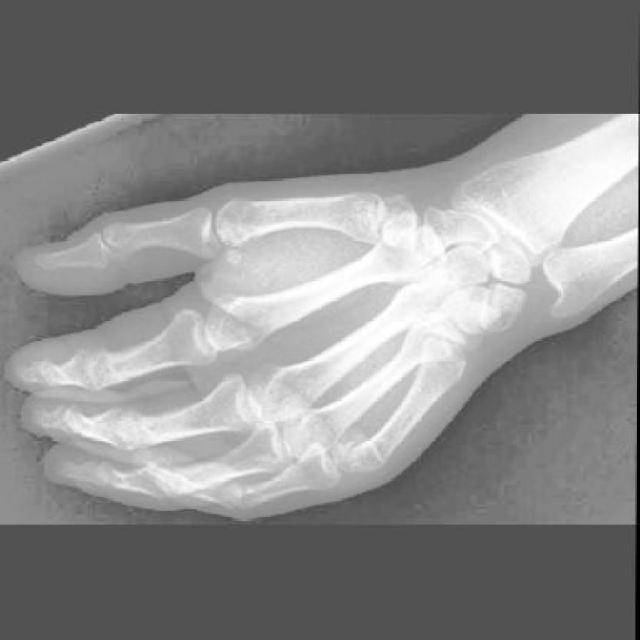Fracture: (345, 440, 390, 485)
